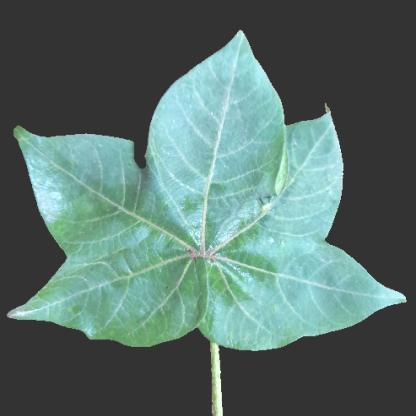healthy: (42, 143, 146, 328), (164, 111, 254, 323), (267, 220, 333, 312), (291, 125, 339, 219), (190, 70, 271, 110)
